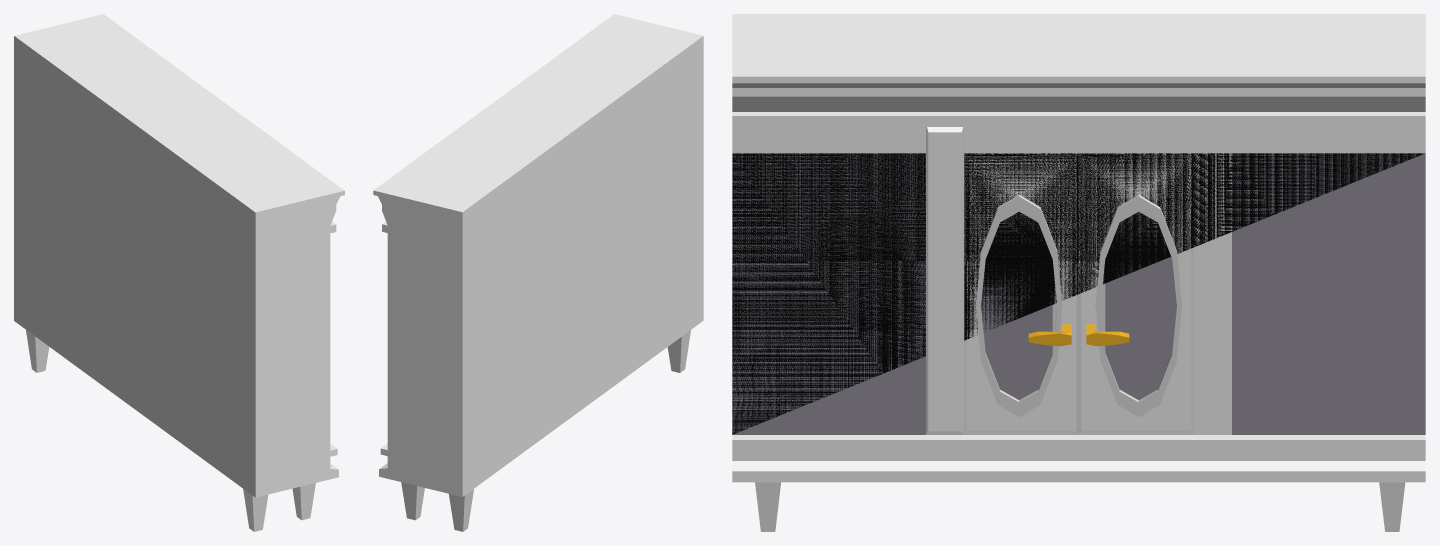
The model's file is magic-wardrobe.gltf.
The picture shows the model from 3 angles, left to right: view 1: azimuth 30°, elevation 25°; view 2: azimuth 150°, elevation 25°; view 3: azimuth 270°, elevation 25°; orthographic projection. The views are drawn at different scales.
Bounding box in the file's own units: 63 × 218 × 290.
Materials: 1 (1 with a texture image).
